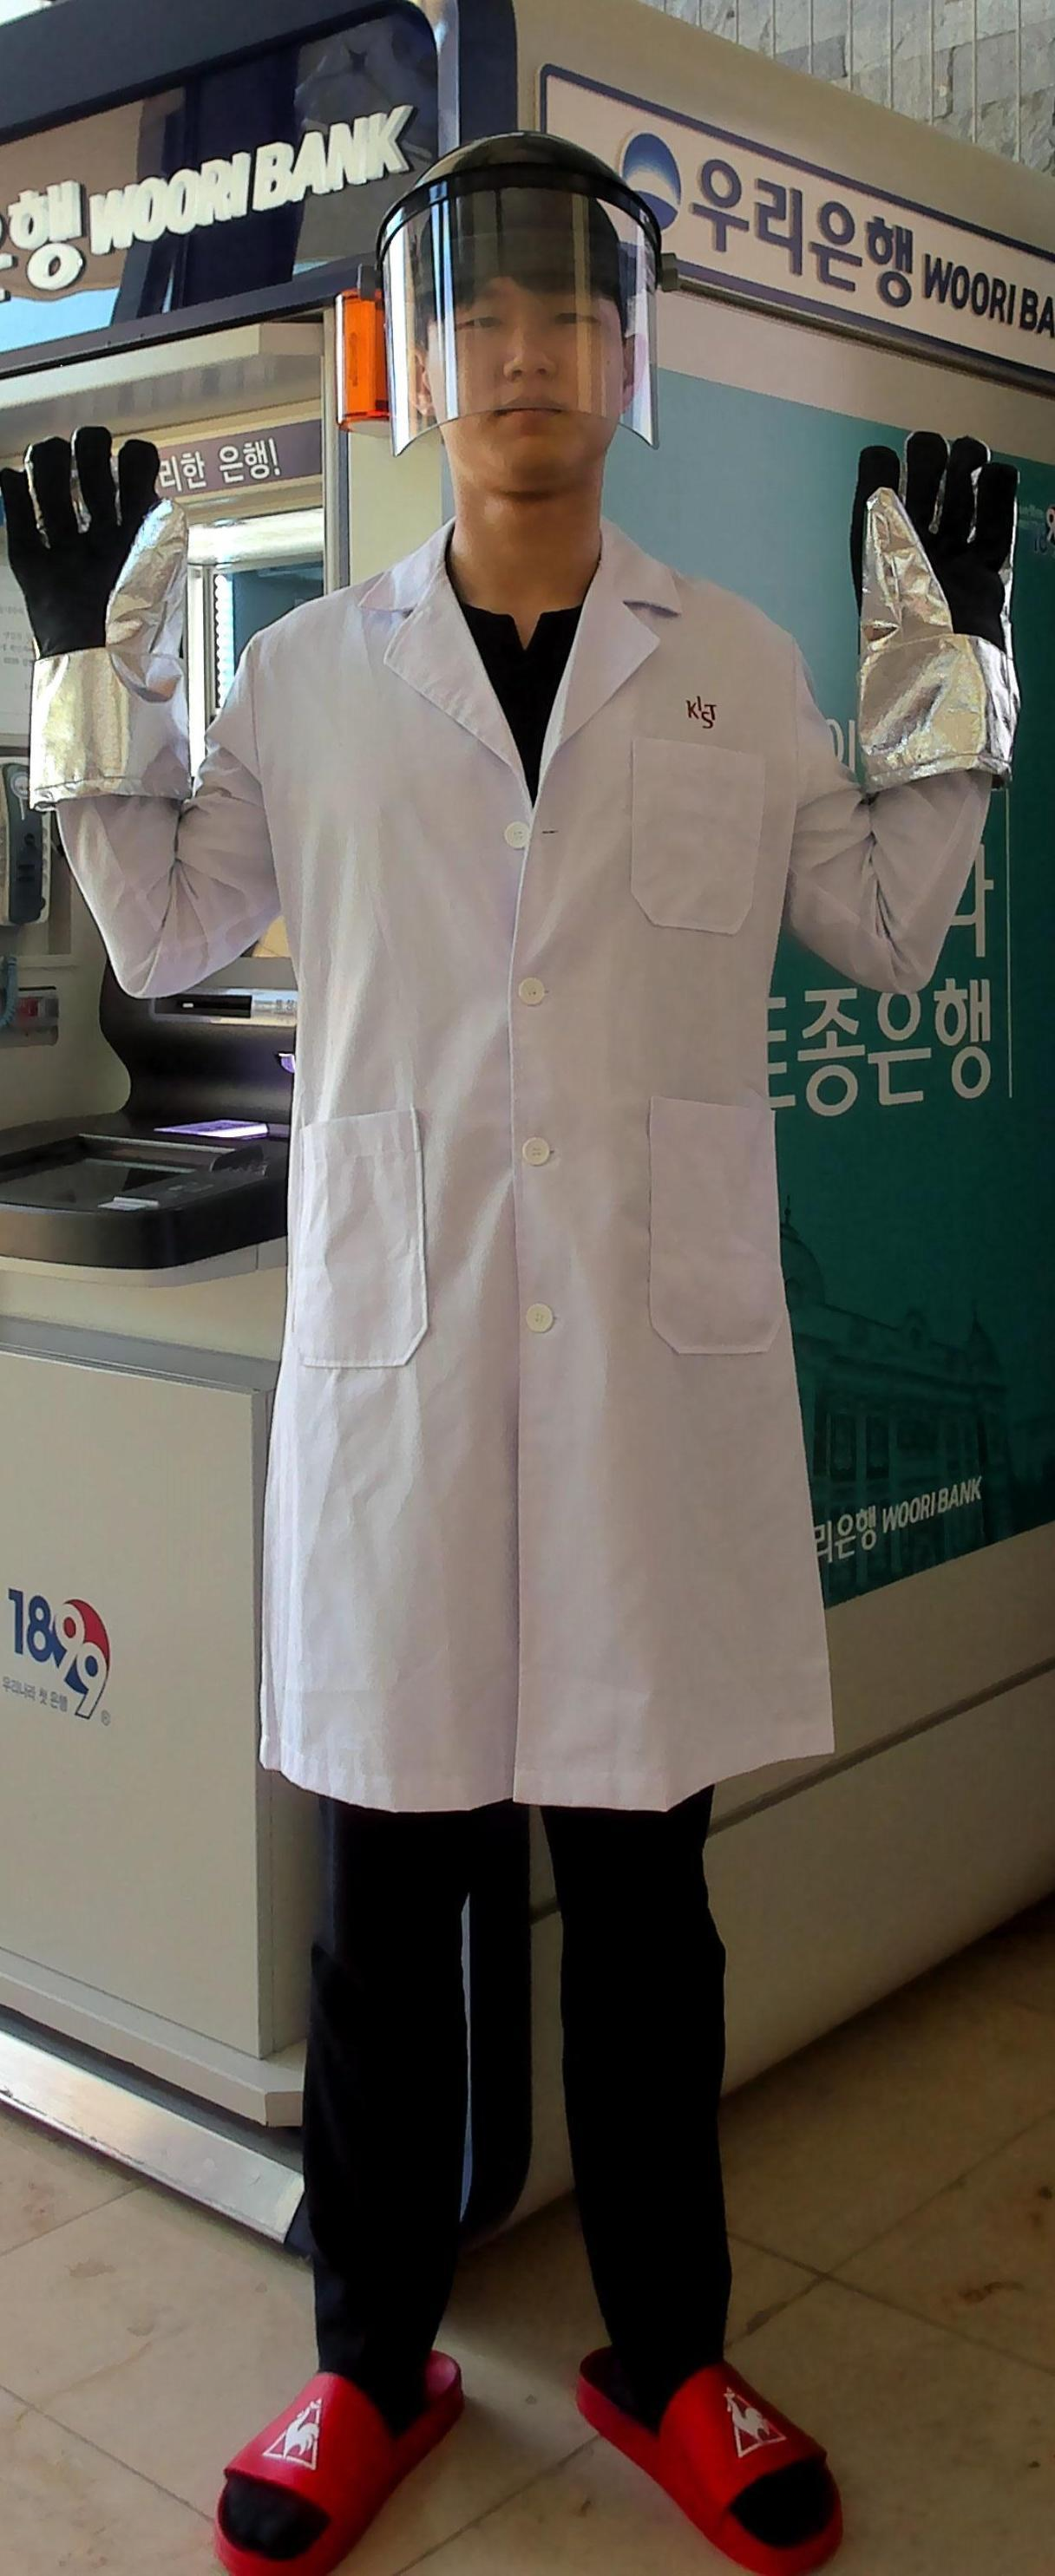lab_coat: (225, 616, 838, 1778)
